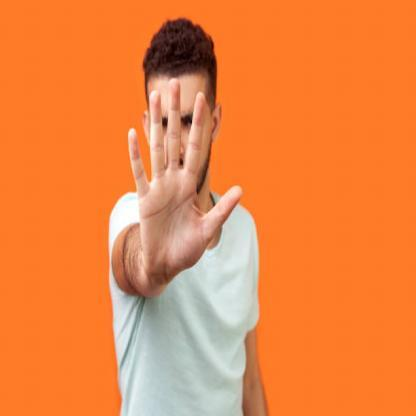stop: (126, 76, 244, 281)
